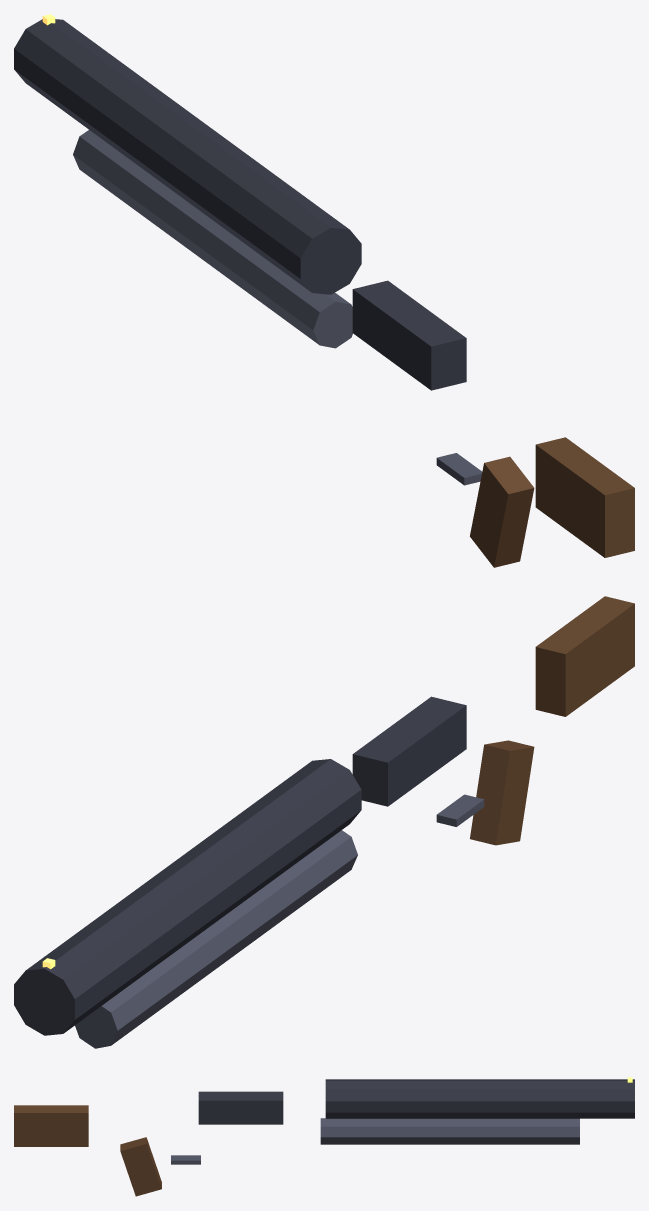
Rendered from weapon_shotgun.glb.
The picture shows the model from 3 angles, top to bottom: view 1: azimuth 30°, elevation 25°; view 2: azimuth 150°, elevation 25°; view 3: azimuth 270°, elevation 25°; orthographic projection. The views are drawn at different scales.
Parts seen in each view (by area): view 1: shotgun; view 2: shotgun; view 3: shotgun.
Boxes of the visible parts, left/top/right/bottom form: shotgun: left=14, top=14, right=634, bottom=567; shotgun: left=14, top=596, right=634, bottom=1048; shotgun: left=14, top=1077, right=634, bottom=1196.
Bounding box in the file's own units: 0.0761 × 0.2538 × 1.25.
